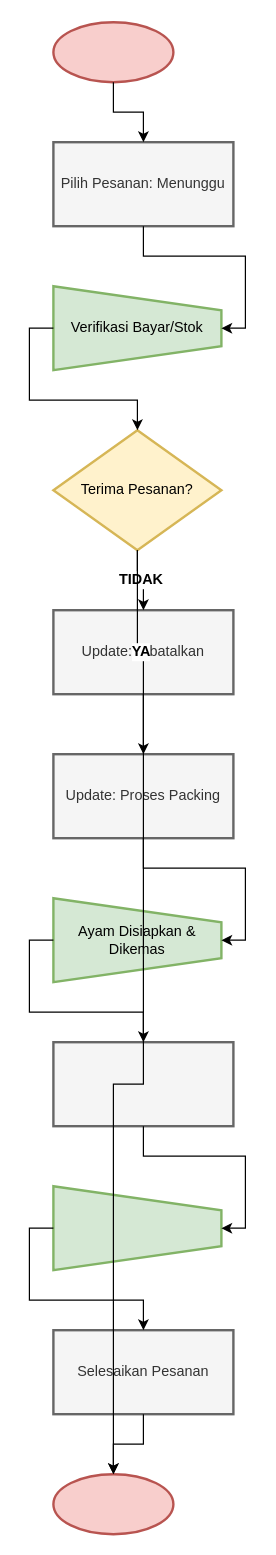
The diagram is 276 pixels wide and 1555 high, and some of its shapes have lost their labels. Here are the shapes that lost their labels. From the top down, the centre of each, then its label:
the point at 113,51: START
the point at 143,1083: Update: Dalam Pengiriman
the point at 137,1227: Kirim ke Alamat Buyer
the point at 113,1503: END
